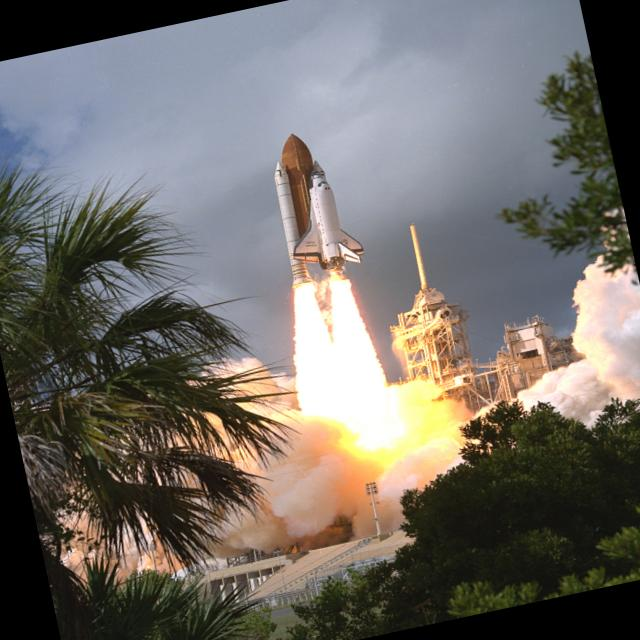rocket: (250, 119, 397, 447)
